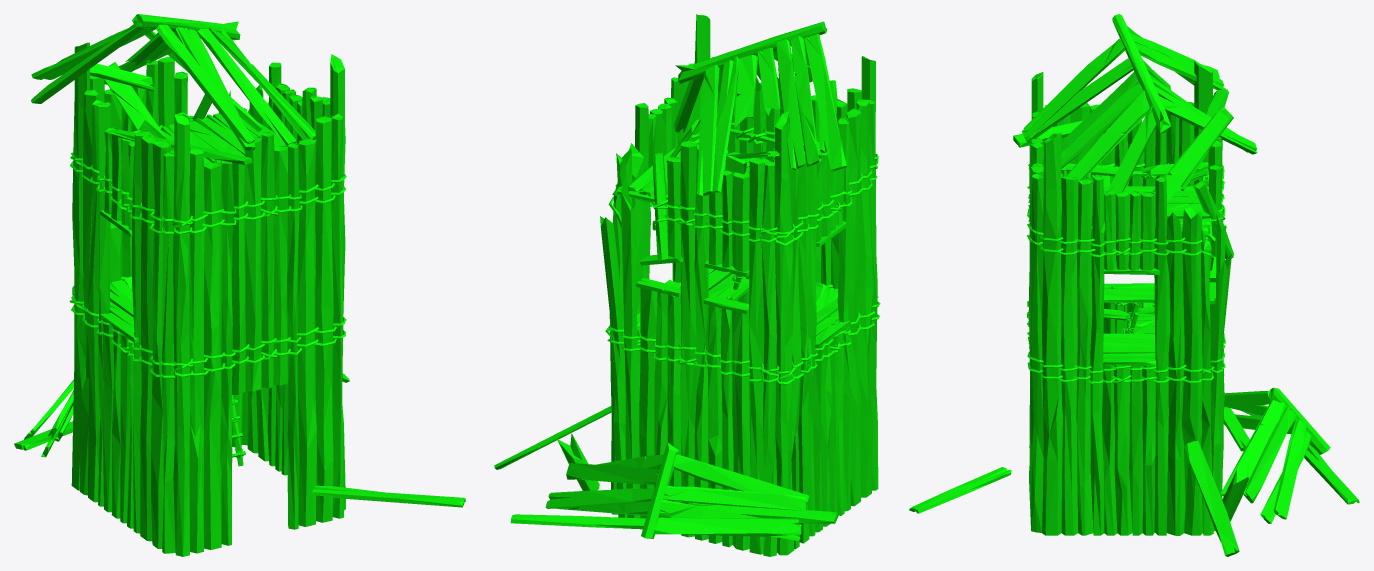
Rendered from SM_Palisade_Tower_A_Broken_B.fbx.
The picture shows the model from 3 angles, left to right: view 1: azimuth 30°, elevation 25°; view 2: azimuth 150°, elevation 25°; view 3: azimuth 270°, elevation 25°; orthographic projection. The views are drawn at different scales.
Visible parts, largest first — view 1: palisade-tower-a-broken-b; view 2: palisade-tower-a-broken-b; view 3: palisade-tower-a-broken-b.
Part boxes in pixels (left/top/right/bottom): palisade-tower-a-broken-b: left=14, top=14, right=465, bottom=556; palisade-tower-a-broken-b: left=494, top=14, right=880, bottom=556; palisade-tower-a-broken-b: left=909, top=14, right=1359, bottom=556.
Bounding box in the file's own units: 7.45 × 10.61 × 9.63.
